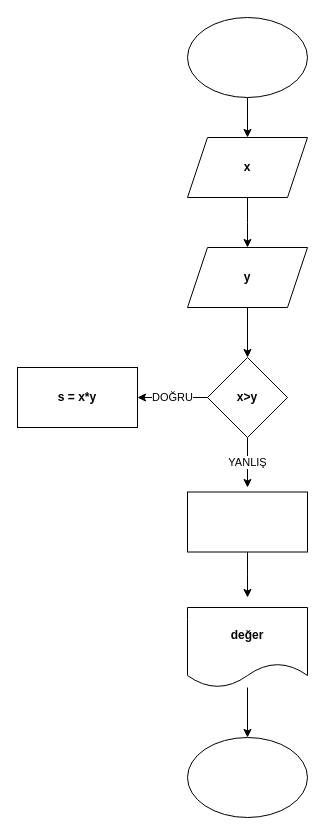
Some shapes in this 325 by 835 pixel diagram are drawn without their labels. The shapes that lost their labels are listed below. From the top down, each one's centre as x and y in pixels, then its label:
At pixel 247 57: "başla".
At pixel 247 521: "s = x+y".
At pixel 247 777: "dur".
